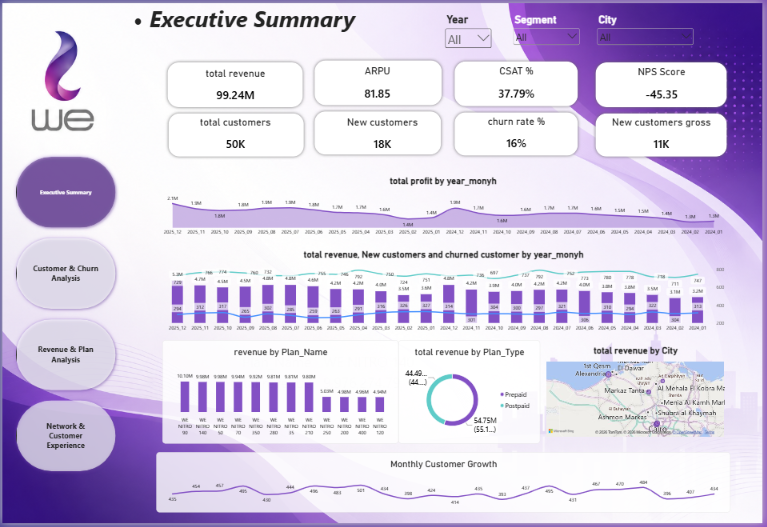

Layout of this report page (visuals, bound fields, positions):
{"tool":"powerbi","page":{"name":"Executive Summary","canvas":[1900,1300],"ordinal":0},"visuals":[{"type":"shape","box":[405,140,354,128],"z":1000},{"type":"shape","box":[1122.5,137.5,324,128],"z":2000},{"type":"shape","box":[772.5,135,334,128],"z":3000},{"type":"shape","box":[1475,140,344,128],"z":4000},{"type":"shape","box":[407.5,267.5,354,124],"z":5000},{"type":"shape","box":[772.5,262.5,332,124],"z":6000},{"type":"shape","box":[1122.5,265,324,124],"z":7000},{"type":"shape","box":[1475,267.5,344,124],"z":8000},{"type":"cardVisual","title":"total revenue","fields":{"Data":["table.total revenue"]},"box":[432.5,160,300,92],"z":9000},{"type":"cardVisual","title":"ARPU","fields":{"Data":["table.Arpu"]},"box":[787.5,155,300,92],"z":10000},{"type":"cardVisual","title":"total customers","fields":{"Data":["table.total custome"]},"box":[432.5,282.5,300,92],"z":11000},{"type":"cardVisual","title":"New customers","fields":{"Data":["table.gross adds"]},"box":[800,282.5,300,92],"z":12000},{"type":"cardVisual","title":"churn rate %","fields":{"Data":["table.churn rate%"]},"box":[1135,280,300,92],"z":13000},{"type":"cardVisual","title":"New customers gross","fields":{"Data":["table.net adds"]},"box":[1497.5,282.5,300,92],"z":14000},{"type":"donutChart","fields":{"Category":["Dim_Plan.Plan_Type"],"Y":["table.total revenue"]},"box":[990,842.5,354,258],"z":15000},{"type":"cardVisual","title":"CSAT %","fields":{"Data":["table.CSAT %"]},"box":[1135,155,300,92],"z":16000},{"type":"cardVisual","title":"NPS Score","fields":{"Data":["table.NPS Score"]},"box":[1495,157.5,306,92],"z":17000},{"type":"lineClusteredColumnComboChart","fields":{"Y":["table.total revenue"],"Category":["Dim_Date.year_monyh"],"Y2":["table.New customers","table.churned customer"]},"box":[385,600,1436,240],"z":18000},{"type":"areaChart","fields":{"Category":["Dim_Date.year_monyh"],"Y":["table.total profit"]},"box":[385,415,1434,186],"z":19000},{"type":"map","fields":{"Size":["table.total revenue"],"Category":["Dim_Geography.City"]},"box":[1345,840,476,260],"z":20000},{"type":"lineChart","title":"Monthly Customer Growth","fields":{"Y":["table.Monthly Customer Growth"],"Category":["Dim_Date.year_monyh"]},"box":[385,1122.5,1435,150],"z":21000},{"type":"textbox","box":[215,0,735,112.5],"z":22000},{"type":"slicer","fields":{"Values":["Dim_Date.Year"]},"box":[1102.5,25,125,87.5],"z":23000},{"type":"slicer","fields":{"Values":["Dim_Customer.Segment"]},"box":[1272.5,25,175,87.5],"z":24000},{"type":"slicer","fields":{"Values":["Dim_Geography.City"]},"box":[1482.5,25,250,87.5],"z":25000},{"type":"columnChart","title":" revenue by Plan_Name","fields":{"Y":["table.total revenue"],"Category":["Dim_Plan.Plan_Name"]},"box":[400,842.5,590,258.3],"z":26000},{"type":"pageNavigator","box":[25,375,267.5,807.5],"z":27000}]}

Visuals, with their boxes in screenshot pixels (x1, y1, x2, y2), scaled from the page's 1900x1300 canvas onto the 767x527 screenshot:
shape: [163,57,306,109]
shape: [453,56,584,108]
shape: [312,55,447,107]
shape: [595,57,734,109]
shape: [165,108,307,159]
shape: [312,106,446,157]
shape: [453,107,584,158]
shape: [595,108,734,159]
"total revenue" cardVisual: [175,65,296,102]
"ARPU" cardVisual: [318,63,439,100]
"total customers" cardVisual: [175,115,296,152]
"New customers" cardVisual: [323,115,444,152]
"churn rate %" cardVisual: [458,114,579,151]
"New customers gross" cardVisual: [605,115,726,152]
donutChart - Dim_Plan.Plan_Type x table.total revenue: [400,342,543,446]
"CSAT %" cardVisual: [458,63,579,100]
"NPS Score" cardVisual: [604,64,727,101]
lineClusteredColumnComboChart - table.total revenue x Dim_Date.year_monyh: [155,243,735,341]
areaChart - Dim_Date.year_monyh x table.total profit: [155,168,734,244]
map - table.total revenue x Dim_Geography.City: [543,341,735,446]
"Monthly Customer Growth" lineChart: [155,455,735,516]
textbox: [87,0,384,46]
slicer - Dim_Date.Year: [445,10,496,46]
slicer - Dim_Customer.Segment: [514,10,584,46]
slicer - Dim_Geography.City: [598,10,699,46]
" revenue by Plan_Name" columnChart: [161,342,400,446]
pageNavigator: [10,152,118,479]
